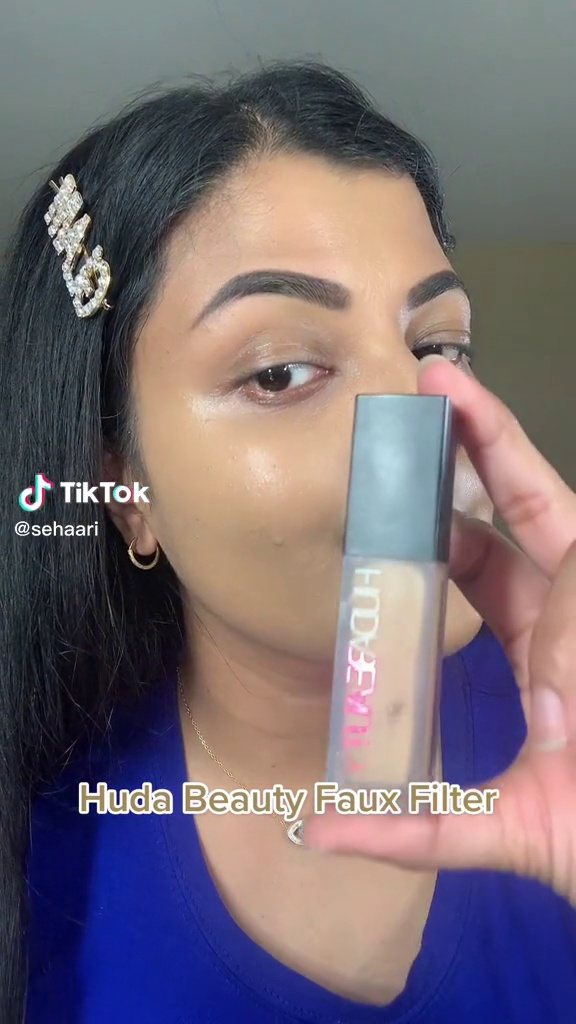train' :'yolo_data/train/images',: (311, 383, 463, 815)
